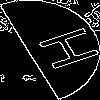H: (25, 25, 100, 76)
